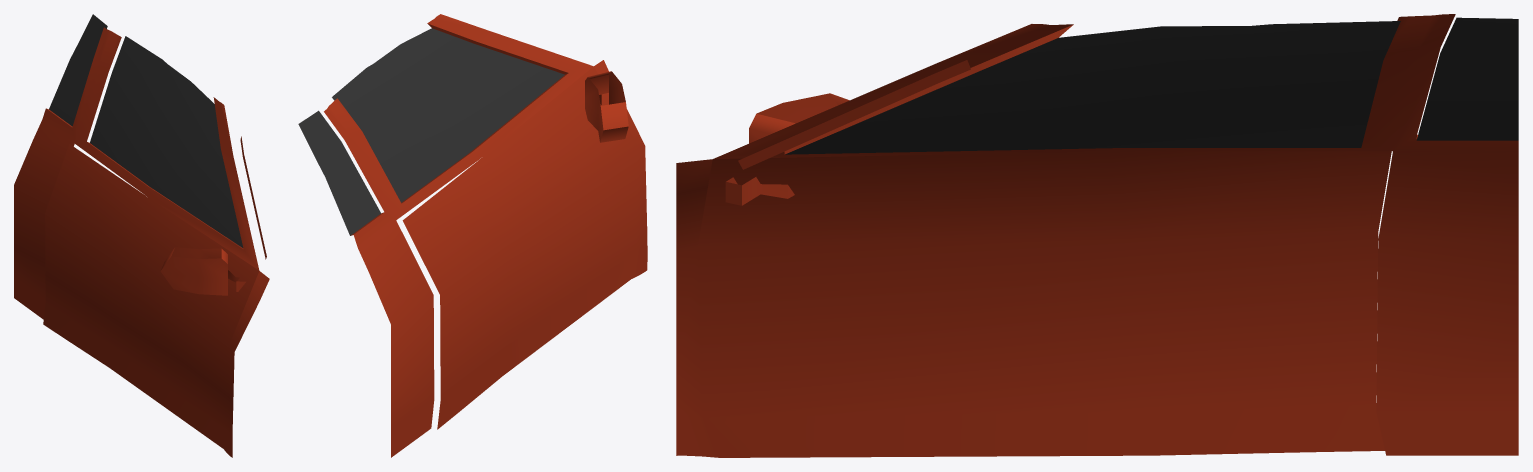
The model's file is sedan2-left.glb.
3 renders of one model, left to right at view 1: azimuth 30°, elevation 25°; view 2: azimuth 150°, elevation 25°; view 3: azimuth 270°, elevation 25°, orthographic. The views are drawn at different scales.
Bounding box in the file's own units: 0.2949 × 0.6645 × 0.9929.
Materials: 1 (1 with a texture image).
